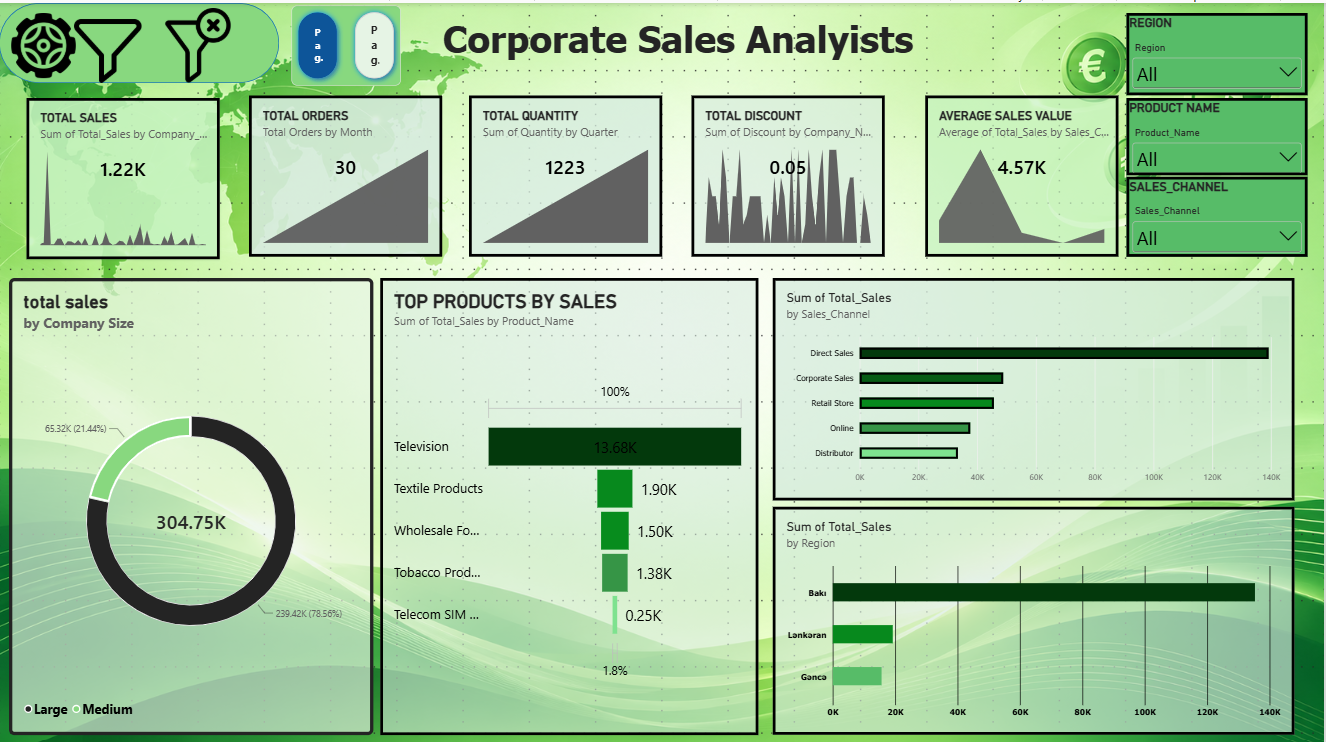

What the dashboard file says about the page in this screenshot:
{"tool":"powerbi","page":{"name":"Page 1","canvas":[1920,1080],"ordinal":0},"visuals":[{"type":"slicer","title":"REGION","fields":{"Values":["corporate sales dataset.Region"]},"box":[1633.8,14.5,262.6,119.5],"z":0,"group":"g1"},{"type":"kpi","title":"TOTAL SALES","fields":{"Indicator":["Sum(corporate sales dataset.Total_Sales)"],"TrendLine":["corporate sales dataset.Company_Name"]},"box":[40,138,279.7,233.7],"z":0},{"type":"textbox","box":[642.8,0,722.1,133.6],"z":1000},{"type":"slicer","title":"PRODUCT NAME","fields":{"Values":["corporate sales dataset.Product_Name"]},"box":[1633.8,137.7,262.6,112.3],"z":1000,"group":"g1"},{"type":"kpi","title":"TOTAL QUANTITY","fields":{"Indicator":["Sum(corporate sales dataset.Quantity)"],"TrendLine":["corporate sales dataset.Contract_Start.Variation.Date Hierarchy.Quarter"]},"box":[680.3,133.6,279.7,233.7],"z":2000},{"type":"slicer","title":"SALES_CHANNEL","fields":{"Values":["corporate sales dataset.Sales_Channel"]},"box":[1633.8,251.8,262.6,115.9],"z":2000,"group":"g1"},{"type":"kpi","title":"TOTAL DISCOUNT","fields":{"TrendLine":["corporate sales dataset.Company_Name"],"Indicator":["Sum(corporate sales dataset.Discount)"]},"box":[1003.8,133.6,279.7,233.7],"z":3000},{"type":"kpi","title":"AVERAGE SALES VALUE","fields":{"Indicator":["Avg(corporate sales dataset.Total_Sales)"],"TrendLine":["corporate sales dataset.Sales_Channel"]},"box":[1341.9,133.6,279.7,233.7],"z":4000},{"type":"kpi","title":"TOTAL ORDERS","fields":{"Indicator":["corporate sales dataset.Total Orders"],"TrendLine":["corporate sales dataset.Contract_Start.Variation.Date Hierarchy.Month"]},"box":[363.1,133.6,279.7,233.7],"z":5000},{"type":"barChart","fields":{"Y":["Sum(corporate sales dataset.Total_Sales)"],"Category":["corporate sales dataset.Region"]},"box":[1122,730,756,330],"z":7000},{"type":"clusteredBarChart","fields":{"Category":["corporate sales dataset.Sales_Channel"],"Y":["Sum(corporate sales dataset.Total_Sales)"]},"box":[1122,398,756,322],"z":9000},{"type":"funnel","title":"TOP PRODUCTS BY SALES","fields":{"Y":["Sum(corporate sales dataset.Total_Sales)"],"Category":["corporate sales dataset.Product_Name"]},"box":[552,398,548,662],"z":10000},{"type":"shape","box":[0,0,406,116],"z":10500},{"type":"image","box":[14,14,100,94],"z":11000},{"type":"image","box":[100,0,116,134],"z":13000},{"type":"image","box":[212,8,152,108],"z":14000},{"type":"donutChart","fields":{"Y":["corporate sales dataset.total sales"],"Category":["corporate sales dataset.Company Size"]},"box":[14,398,528,662],"z":15000},{"type":"group","id":"g1","title":"slicer panel","box":[1633.8,14.5,262.6,353.2],"z":16000},{"type":"pageNavigator","box":[424,4,158,116],"z":16001}]}

Visuals, with their boxes in screenshot pixels (x1, y1, x2, y2), scaled from the page's 1920x1080 canvas onto the 1326x742 screenshot:
"REGION" slicer: select_region(1128, 10, 1310, 92)
"TOTAL SALES" kpi: select_region(28, 95, 221, 255)
textbox: select_region(444, 0, 943, 92)
"PRODUCT NAME" slicer: select_region(1128, 95, 1310, 172)
"TOTAL QUANTITY" kpi: select_region(470, 92, 663, 252)
"SALES_CHANNEL" slicer: select_region(1128, 173, 1310, 253)
"TOTAL DISCOUNT" kpi: select_region(693, 92, 886, 252)
"AVERAGE SALES VALUE" kpi: select_region(927, 92, 1120, 252)
"TOTAL ORDERS" kpi: select_region(251, 92, 444, 252)
barChart - Sum(corporate sales dataset.Total_Sales) x corporate sales dataset.Region: select_region(775, 502, 1297, 728)
clusteredBarChart - corporate sales dataset.Sales_Channel x Sum(corporate sales dataset.Total_Sales): select_region(775, 273, 1297, 495)
"TOP PRODUCTS BY SALES" funnel: select_region(381, 273, 760, 728)
shape: select_region(0, 0, 280, 80)
image: select_region(10, 10, 79, 74)
image: select_region(69, 0, 149, 92)
image: select_region(146, 5, 251, 80)
donutChart - corporate sales dataset.total sales x corporate sales dataset.Company Size: select_region(10, 273, 374, 728)
"slicer panel" group: select_region(1128, 10, 1310, 253)
pageNavigator: select_region(293, 3, 402, 82)
